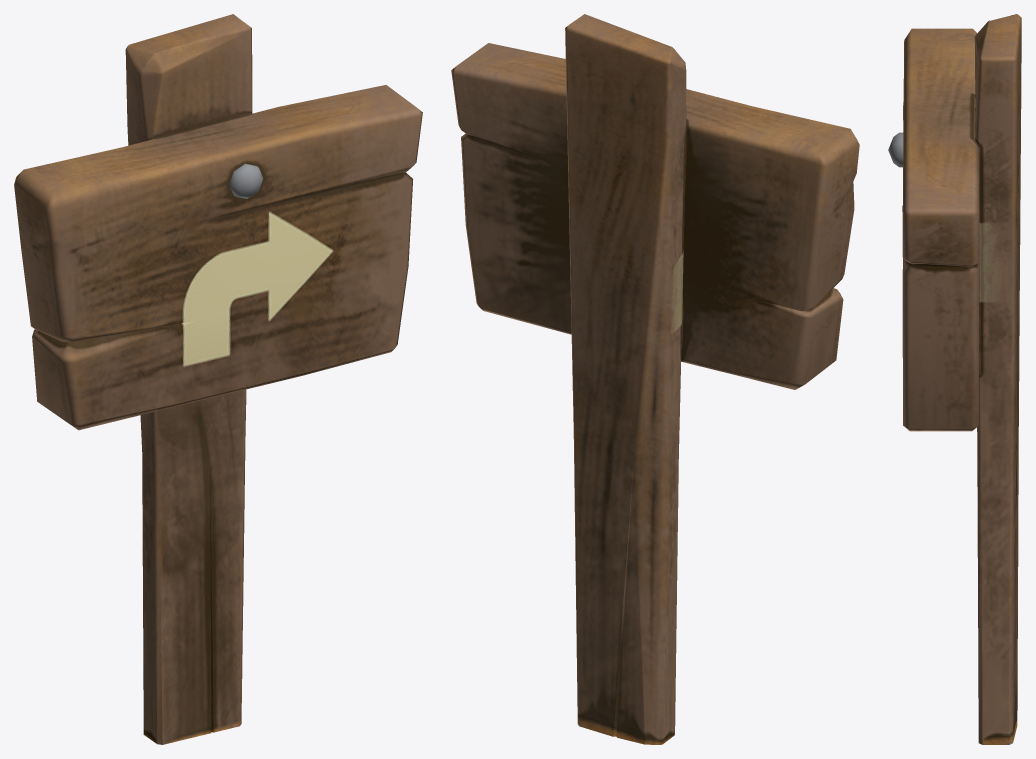
The model's file is wood_R.fbx.
3 renders of one model, left to right at view 1: azimuth 30°, elevation 25°; view 2: azimuth 150°, elevation 25°; view 3: azimuth 270°, elevation 25°, orthographic.
Visible parts, largest first — view 1: wood_R; view 2: wood_R; view 3: wood_R.
Boxes of the visible parts, x1,y1,x2,y2 form: wood_R: (14, 14, 422, 744); wood_R: (451, 14, 859, 744); wood_R: (888, 14, 1021, 744).
Bounding box in the file's own units: 113 × 200 × 34.92.
